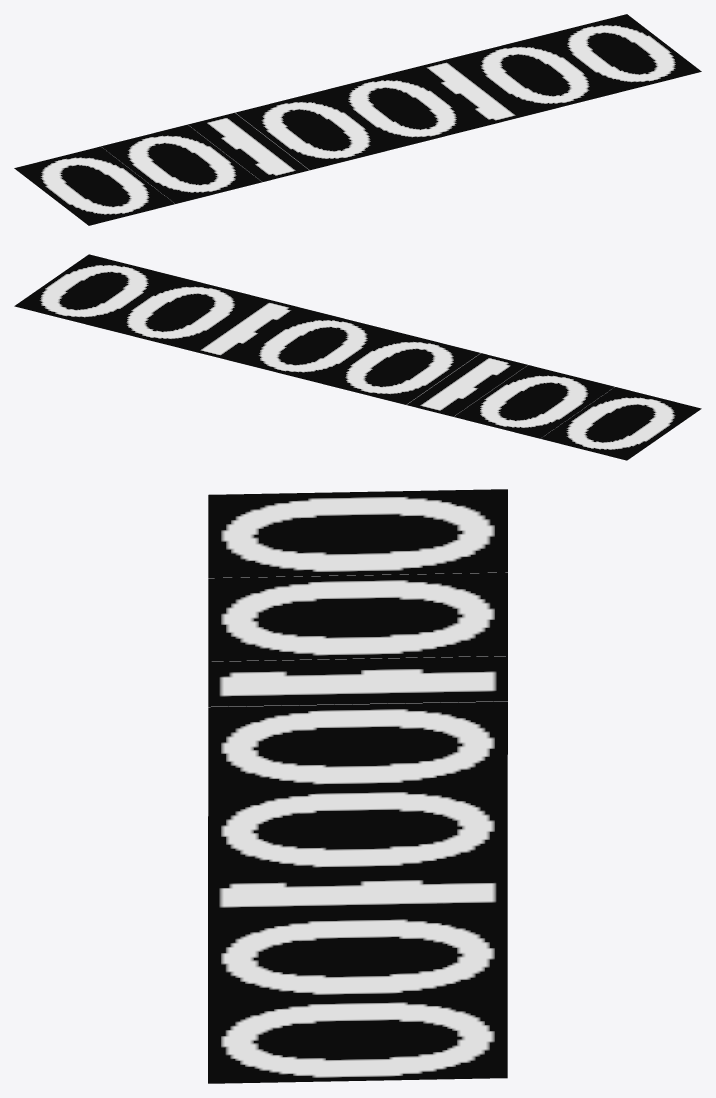
File: Neitri's Clock V1.fbx
3 renders of one model, top to bottom at view 1: azimuth 30°, elevation 25°; view 2: azimuth 150°, elevation 25°; view 3: azimuth 270°, elevation 25°, orthographic. The views are drawn at different scales.
Parts seen in each view (by area): view 1: clock; view 2: clock; view 3: clock.
Part boxes in pixels (box(x1,y1,x2,y2)): clock: box(14, 14, 701, 225); clock: box(14, 254, 701, 460); clock: box(208, 489, 507, 1083).
Size of the model in its own units: 5.46 by 0.0637 by 1.16.
Materials: 1 (1 with a texture image).
